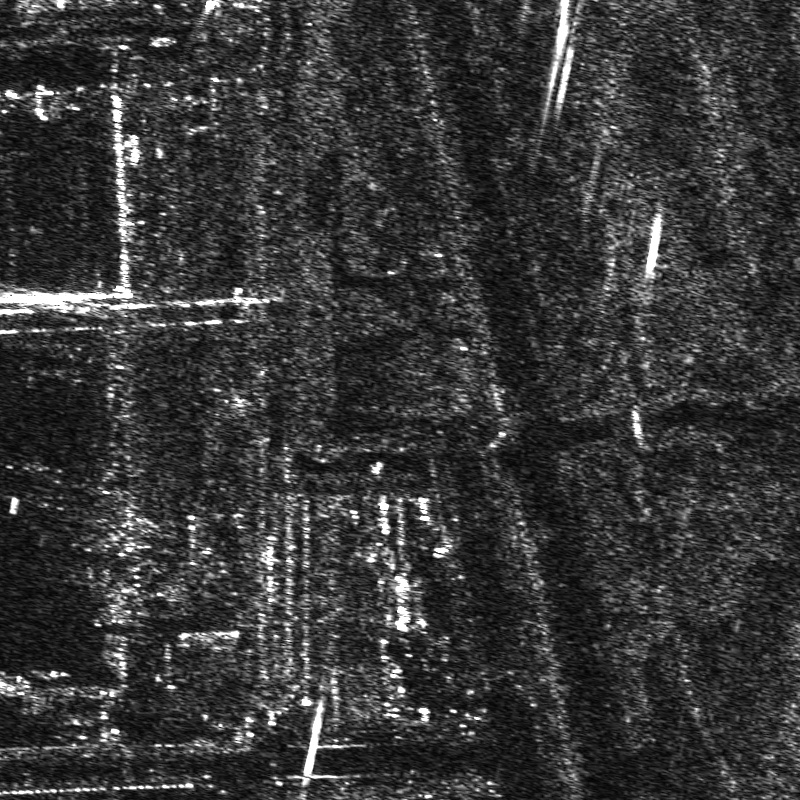A220: (5, 448, 69, 513)
